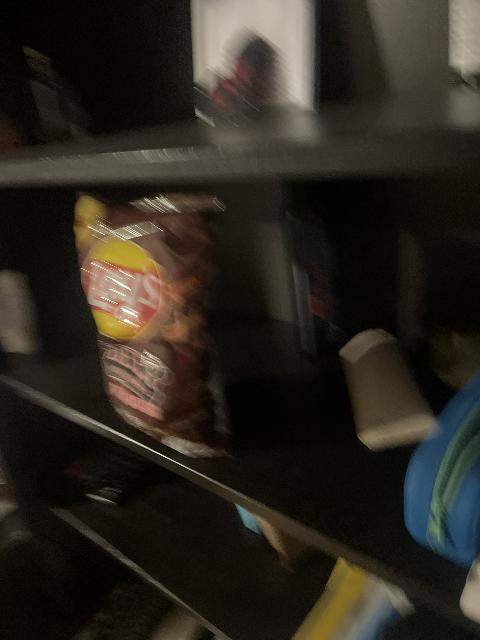Lays Beef Grilled Ribs 125g: (77, 192, 234, 453)
